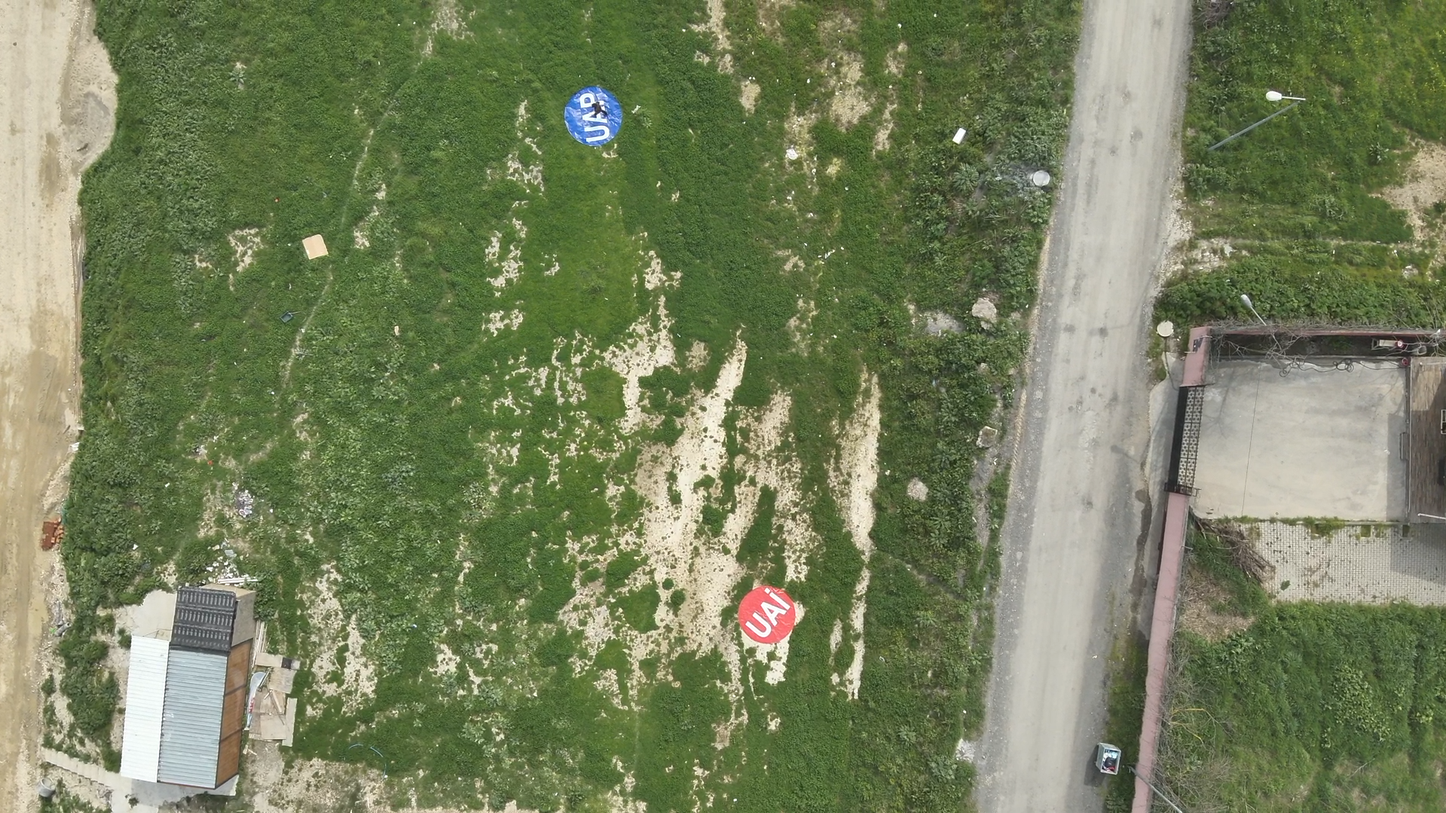UAI: (741, 587, 797, 644)
UAP: (564, 87, 625, 143)
person: (588, 102, 606, 122)
